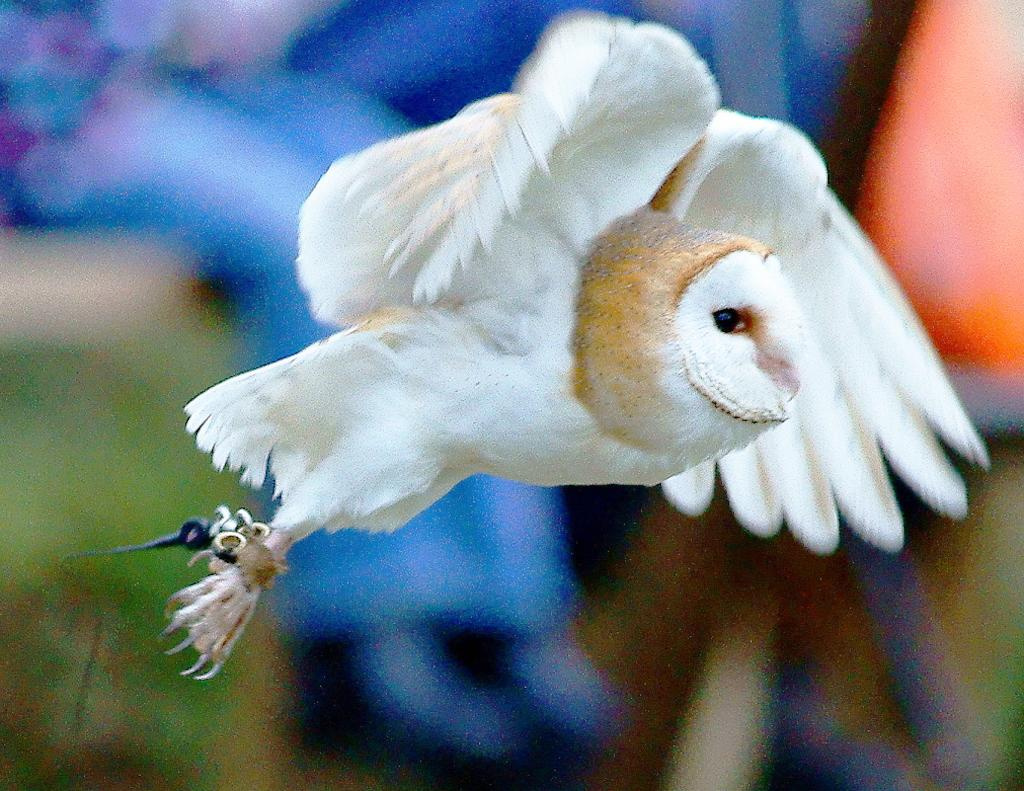Owl: (159, 6, 995, 679)
